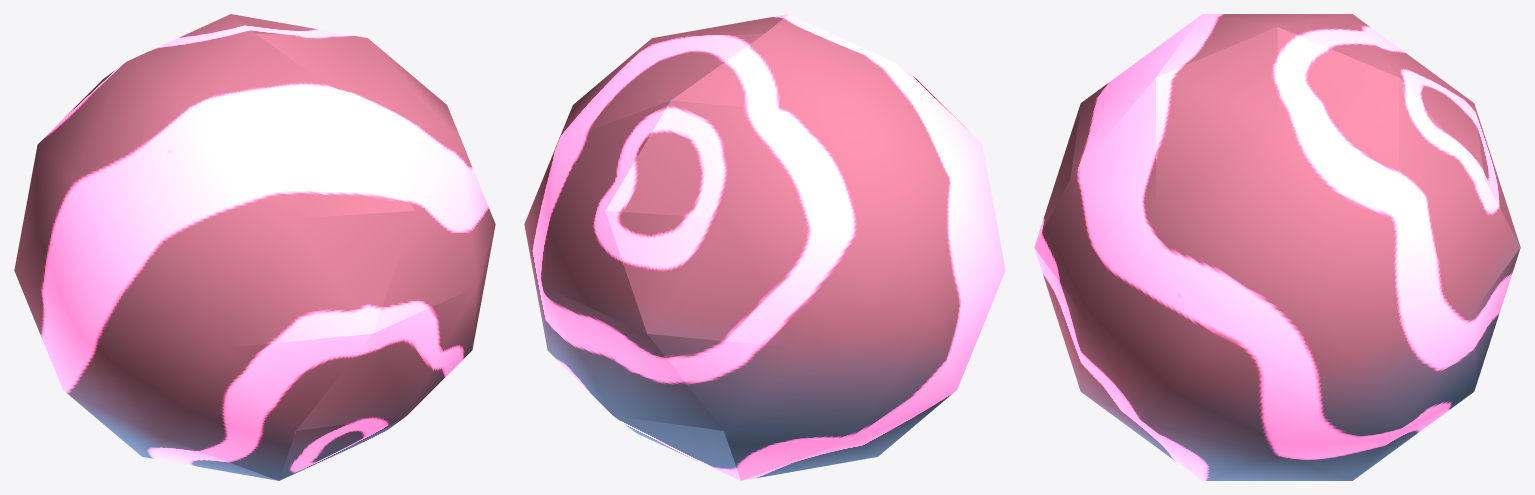
File: pinkmilk.fbx
3 views of the same model, side by side, from view 1: azimuth 30°, elevation 25°; view 2: azimuth 150°, elevation 25°; view 3: azimuth 270°, elevation 25° (orthographic). The views are drawn at different scales.
Visible parts, largest first — view 1: Icosphere_frozen; view 2: Icosphere_frozen; view 3: Icosphere_frozen.
Part boxes in pixels (left/top/right/bottom): Icosphere_frozen: left=14, top=14, right=495, bottom=480; Icosphere_frozen: left=524, top=14, right=1005, bottom=480; Icosphere_frozen: left=1034, top=14, right=1520, bottom=480.
Bounding box in the file's own units: 200 × 200 × 200.
Materials: 1 (1 with a texture image).
